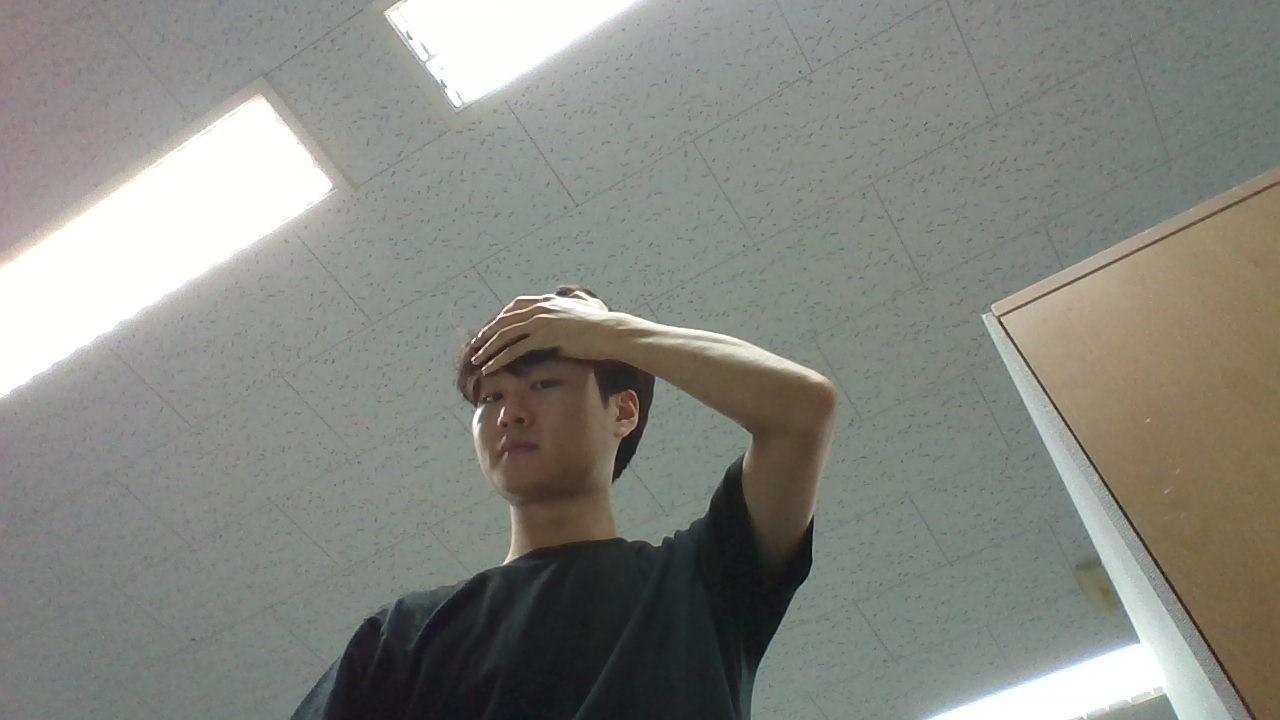Non-Helmet: (438, 273, 676, 519)
